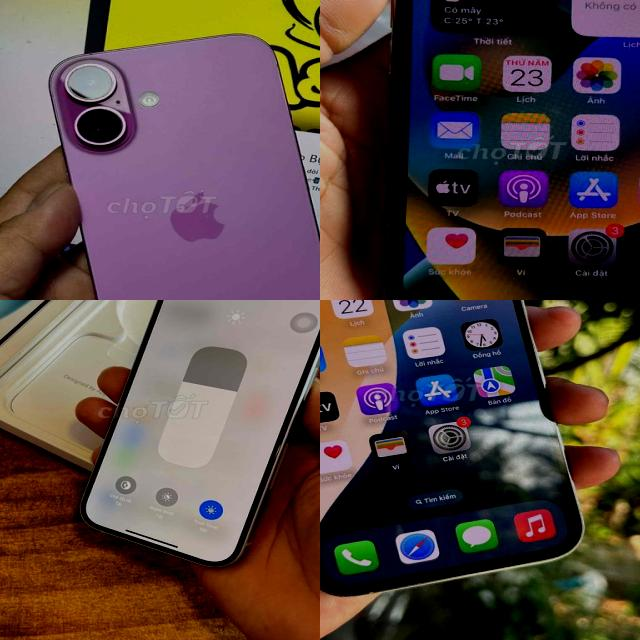gen_12_13: (78, 300, 320, 573)
gen_14: (320, 300, 590, 594)
gen_16: (31, 30, 320, 300)
gen_x_xs: (376, 0, 640, 300)
